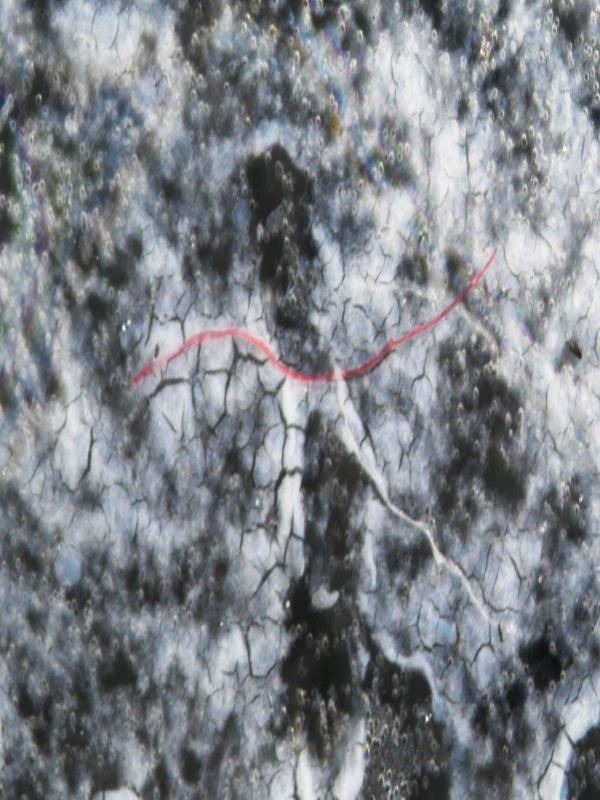microplastic: (1, 1, 598, 797), (130, 244, 499, 391)
